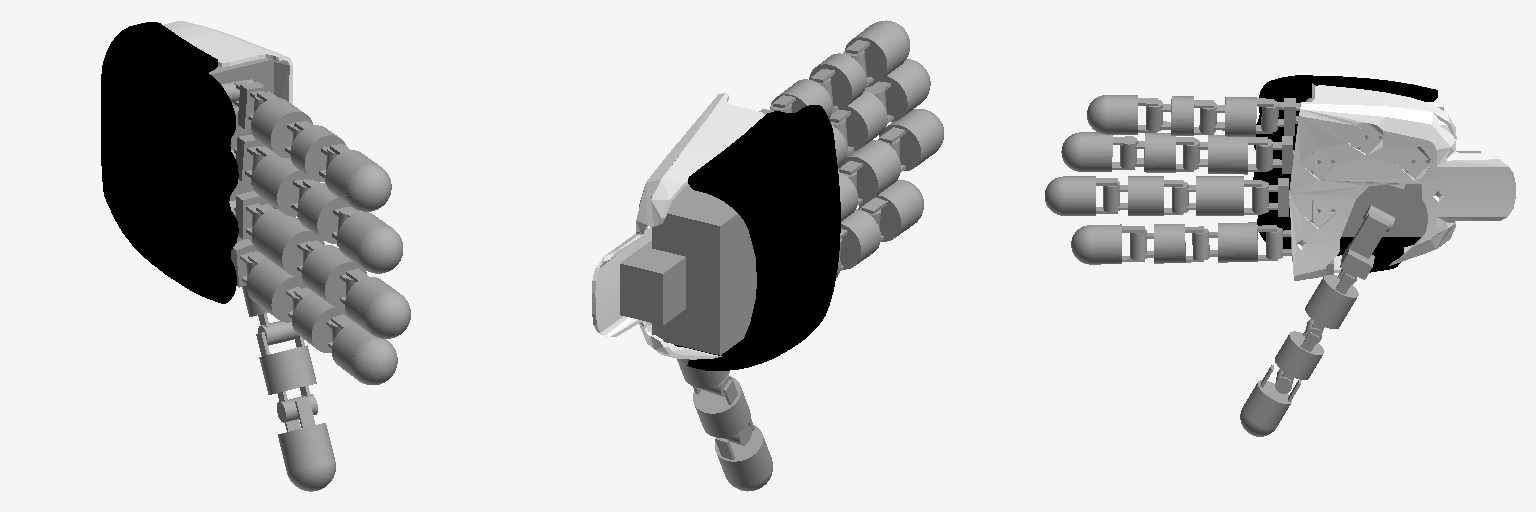
URDF robot description (ICub):
<?xml version="1.0"?>
<robot name="ICub">


   <link name="base_link">
      <origin rpy="0 0 0" xyz="0 0 0"/>
    <inertial>
      <origin xyz="0 0 0" rpy="0 0 0"/>
      <mass value="0.111"/>
      <inertia
        ixx="0.112" ixy="0.0" ixz="0.0"
        iyy="0.112" iyz="0.0"
        izz="0.112"/>
    </inertial>
   </link>

<!-- LEFT HAND -->

   <link name="left_palm">
      <visual>
      <origin rpy="0 0 0" xyz="-0.0625 0 0.016"/>
         <geometry>
	    <mesh filename="package://icub_with_hands/meshes/left_palm.dae"/>
         </geometry>
      </visual>
    <inertial>
      <origin xyz="0 0 0" rpy="0 0 0"/>
      <mass value="0.111"/>
      <inertia
        ixx="0.112" ixy="0.0" ixz="0.0"
        iyy="0.112" iyz="0.0"
        izz="0.112"/>
    </inertial>
   </link>

   <link name="lthumbbase">
    <inertial>
      <origin xyz="0 0 0" rpy="0 0 0"/>
      <mass value="0.111"/>
      <inertia
        ixx="0.112" ixy="0.0" ixz="0.0"
        iyy="0.112" iyz="0.0"
        izz="0.112"/>
    </inertial>
   </link>

   <link name="ltl0">
      <visual>
      <origin rpy="-1.5708 0 0" xyz="0 0 0"/>
         <geometry>
	    <mesh filename="package://icub_with_hands/meshes/ltl0.dae"/>
         </geometry>
      </visual>
    <inertial>
      <origin xyz="0 0 0" rpy="0 0 0"/>
      <mass value="0.111"/>
      <inertia
        ixx="0.112" ixy="0.0" ixz="0.0"
        iyy="0.112" iyz="0.0"
        izz="0.112"/>
    </inertial>
   </link>

   <link name="ltl1">
      <visual>
      <origin rpy="0 0 0" xyz="0.021 0 -0.0056"/>
         <geometry>
	    <mesh filename="package://icub_with_hands/meshes/ltl1.dae"/>
         </geometry>
      </visual>
    <inertial>
      <origin xyz="0 0 0" rpy="0 0 0"/>
      <mass value="0.111"/>
      <inertia
        ixx="0.112" ixy="0.0" ixz="0.0"
        iyy="0.112" iyz="0.0"
        izz="0.112"/>
    </inertial>
   </link>

   <link name="ltl2">
      <visual>
      <origin rpy="0 0 0" xyz="0.026 0 0"/>
         <geometry>
	    <mesh filename="package://icub_with_hands/meshes/ltl2.dae"/>
         </geometry>
      </visual>
    <inertial>
      <origin xyz="0 0 0" rpy="0 0 0"/>
      <mass value="0.111"/>
      <inertia
        ixx="0.112" ixy="0.0" ixz="0.0"
        iyy="0.112" iyz="0.0"
        izz="0.112"/>
    </inertial>
   </link>

   <link name="ltl3">
      <visual>
      <origin rpy="0 0 0" xyz="0.022 0 0"/>
         <geometry>
	    <mesh filename="package://icub_with_hands/meshes/ltl3.dae"/>
         </geometry>
      </visual>
    <inertial>
      <origin xyz="0 0 0" rpy="0 0 0"/>
      <mass value="0.111"/>
      <inertia
        ixx="0.112" ixy="0.0" ixz="0.0"
        iyy="0.112" iyz="0.0"
        izz="0.112"/>
    </inertial>
   </link>

   <link name="ltl4">
      <visual>
      <origin rpy="0 0 0" xyz="0.0168 0 0"/>
         <geometry>
	    <mesh filename="package://icub_with_hands/meshes/ltl4.dae"/>
         </geometry>
      </visual>
    <inertial>
      <origin xyz="0 0 0" rpy="0 0 0"/>
      <mass value="0.111"/>
      <inertia
        ixx="0.112" ixy="0.0" ixz="0.0"
        iyy="0.112" iyz="0.0"
        izz="0.112"/>
    </inertial>
   </link>

   <link name="lindexbase">
      <visual>
      <origin rpy="0.0959 0 -3.2141" xyz="-0.0018 -0.027 -0.00375"/>
         <geometry>
	    <mesh filename="package://icub_with_hands/meshes/lindexbase.dae"/>
         </geometry>
      </visual>
    <inertial>
      <origin xyz="0 0 0" rpy="0 0 0"/>
      <mass value="0.111"/>
      <inertia
        ixx="0.112" ixy="0.0" ixz="0.0"
        iyy="0.112" iyz="0.0"
        izz="0.112"/>
    </inertial>
   </link>

   <link name="lail0">
      <visual>
      <origin rpy="1.5708 0 0" xyz="0.0148 0 0"/>
         <geometry>
	    <mesh filename="package://icub_with_hands/meshes/lail0.dae"/>
         </geometry>
      </visual>
    <inertial>
      <origin xyz="0 0 0" rpy="0 0 0"/>
      <mass value="0.111"/>
      <inertia
        ixx="0.112" ixy="0.0" ixz="0.0"
        iyy="0.112" iyz="0.0"
        izz="0.112"/>
    </inertial>
   </link>

   <link name="lail1">

      <visual>
      <origin rpy="0 0 0" xyz="0.0259 0 0"/>
         <geometry>
	    <mesh filename="package://icub_with_hands/meshes/lail1.dae"/>
         </geometry>
      </visual>
    <inertial>
      <origin xyz="0 0 0" rpy="0 0 0"/>
      <mass value="0.111"/>
      <inertia
        ixx="0.112" ixy="0.0" ixz="0.0"
        iyy="0.112" iyz="0.0"
        izz="0.112"/>
    </inertial>
   </link>

   <link name="lail2">

      <visual>
      <origin rpy="0 0 0" xyz="0.022 0 0"/>
         <geometry>
	    <mesh filename="package://icub_with_hands/meshes/lail2.dae"/>
         </geometry>
      </visual>
    <inertial>
      <origin xyz="0 0 0" rpy="0 0 0"/>
      <mass value="0.111"/>
      <inertia
        ixx="0.112" ixy="0.0" ixz="0.0"
        iyy="0.112" iyz="0.0"
        izz="0.112"/>
    </inertial>
   </link>

   <link name="lail3">

      <visual>
      <origin rpy="-1.5708 0 0" xyz="0.0168 0 0"/>
         <geometry>
	    <mesh filename="package://icub_with_hands/meshes/lail3.dae"/>
         </geometry>
      </visual>
    <inertial>
      <origin xyz="0 0 0" rpy="0 0 0"/>
      <mass value="0.111"/>
      <inertia
        ixx="0.112" ixy="0.0" ixz="0.0"
        iyy="0.112" iyz="0.0"
        izz="0.112"/>
    </inertial>
   </link>

   <link name="lmiddlebase">

      <visual>
      <origin rpy="0 0 3.1416" xyz="-0.0028 -0.01 -0.005"/>
         <geometry>
	    <mesh filename="package://icub_with_hands/meshes/lmiddlebase.dae"/>
         </geometry>
      </visual>
    <inertial>
      <origin xyz="0 0 0" rpy="0 0 0"/>
      <mass value="0.111"/>
      <inertia
        ixx="0.112" ixy="0.0" ixz="0.0"
        iyy="0.112" iyz="0.0"
        izz="0.112"/>
    </inertial>
   </link>

   <link name="lml0">

      <visual>
      <origin rpy="1.5708 0 0" xyz="0.015 0 0"/>
         <geometry>
	    <mesh filename="package://icub_with_hands/meshes/lml0.dae"/>
         </geometry>
      </visual>
    <inertial>
      <origin xyz="0 0 0" rpy="0 0 0"/>
      <mass value="0.111"/>
      <inertia
        ixx="0.112" ixy="0.0" ixz="0.0"
        iyy="0.112" iyz="0.0"
        izz="0.112"/>
    </inertial>
   </link>

   <link name="lml1">

      <visual>
      <origin rpy="0 0 0" xyz="0.0285 0 0"/>
         <geometry>
	    <mesh filename="package://icub_with_hands/meshes/lml1.dae"/>
         </geometry>
      </visual>
    <inertial>
      <origin xyz="0 0 0" rpy="0 0 0"/>
      <mass value="0.111"/>
      <inertia
        ixx="0.112" ixy="0.0" ixz="0.0"
        iyy="0.112" iyz="0.0"
        izz="0.112"/>
    </inertial>
   </link>

   <link name="lml2">

      <visual>
      <origin rpy="0 0 0" xyz="0.0240 0 0"/>
         <geometry>
	    <mesh filename="package://icub_with_hands/meshes/lml2.dae"/>
         </geometry>
      </visual>
    <inertial>
      <origin xyz="0 0 0" rpy="0 0 0"/>
      <mass value="0.111"/>
      <inertia
        ixx="0.112" ixy="0.0" ixz="0.0"
        iyy="0.112" iyz="0.0"
        izz="0.112"/>
    </inertial>
   </link>

   <link name="lml3">

      <visual>
      <origin rpy="-1.5708 0 0" xyz="0.0168 0 0"/>
         <geometry>
	    <mesh filename="package://icub_with_hands/meshes/lml3.dae"/>
         </geometry>
      </visual>
    <inertial>
      <origin xyz="0 0 0" rpy="0 0 0"/>
      <mass value="0.111"/>
      <inertia
        ixx="0.112" ixy="0.0" ixz="0.0"
        iyy="0.112" iyz="0.0"
        izz="0.112"/>
    </inertial>
   </link>

   <link name="lringbase">

      <visual>
      <origin rpy="-0.0873 0 3.1329" xyz="-0.00165 0.0059 -0.00425"/>
         <geometry>
	    <mesh filename="package://icub_with_hands/meshes/lringbase.dae"/>
         </geometry>
      </visual>
    <inertial>
      <origin xyz="0 0 0" rpy="0 0 0"/>
      <mass value="0.111"/>
      <inertia
        ixx="0.112" ixy="0.0" ixz="0.0"
        iyy="0.112" iyz="0.0"
        izz="0.112"/>
    </inertial>
   </link>

   <link name="lril0">

      <visual>
      <origin rpy="1.5708 0 0" xyz="0.0148 0 0"/>
         <geometry>
	    <mesh filename="package://icub_with_hands/meshes/lril0.dae"/>
         </geometry>
      </visual>
    <inertial>
      <origin xyz="0 0 0" rpy="0 0 0"/>
      <mass value="0.111"/>
      <inertia
        ixx="0.112" ixy="0.0" ixz="0.0"
        iyy="0.112" iyz="0.0"
        izz="0.112"/>
    </inertial>
   </link>

   <link name="lril1">

      <visual>
      <origin rpy="0 0 0" xyz="0.0259 0 0"/>
         <geometry>
	    <mesh filename="package://icub_with_hands/meshes/lril1.dae"/>
         </geometry>
      </visual>
    <inertial>
      <origin xyz="0 0 0" rpy="0 0 0"/>
      <mass value="0.111"/>
      <inertia
        ixx="0.112" ixy="0.0" ixz="0.0"
        iyy="0.112" iyz="0.0"
        izz="0.112"/>
    </inertial>
   </link>

   <link name="lril2">

      <visual>
      <origin rpy="0 0 0" xyz="0.022 0 0"/>
         <geometry>
	    <mesh filename="package://icub_with_hands/meshes/lril2.dae"/>
         </geometry>
      </visual>
    <inertial>
      <origin xyz="0 0 0" rpy="0 0 0"/>
      <mass value="0.111"/>
      <inertia
        ixx="0.112" ixy="0.0" ixz="0.0"
        iyy="0.112" iyz="0.0"
        izz="0.112"/>
    </inertial>
   </link>

   <link name="lril3">

      <visual>
      <origin rpy="-1.5708 0 0" xyz="0.0168 0 0"/>
         <geometry>
	    <mesh filename="package://icub_with_hands/meshes/lril3.dae"/>
         </geometry>
      </visual>
    <inertial>
      <origin xyz="0 0 0" rpy="0 0 0"/>
      <mass value="0.111"/>
      <inertia
        ixx="0.112" ixy="0.0" ixz="0.0"
        iyy="0.112" iyz="0.0"
        izz="0.112"/>
    </inertial>
   </link>

   <link name="llittlebase">

      <visual>
      <origin rpy="-0.0873 0 3.1241" xyz="0.00025 0.02475 -0.0025"/>
         <geometry>
	    <mesh filename="package://icub_with_hands/meshes/llittlebase.dae"/>
         </geometry>
      </visual>
    <inertial>
      <origin xyz="0 0 0" rpy="0 0 0"/>
      <mass value="0.111"/>
      <inertia
        ixx="0.112" ixy="0.0" ixz="0.0"
        iyy="0.112" iyz="0.0"
        izz="0.112"/>
    </inertial>
   </link>

   <link name="llil0">

      <visual>
      <origin rpy="1.5708 0 0" xyz="0.0148 0 0"/>
         <geometry>
	    <mesh filename="package://icub_with_hands/meshes/llil0.dae"/>
         </geometry>
      </visual>
    <inertial>
      <origin xyz="0 0 0" rpy="0 0 0"/>
      <mass value="0.111"/>
      <inertia
        ixx="0.112" ixy="0.0" ixz="0.0"
        iyy="0.112" iyz="0.0"
        izz="0.112"/>
    </inertial>
   </link>

   <link name="llil1">

      <visual>
      <origin rpy="0 0 0" xyz="0.0218 0 0"/>
         <geometry>
	    <mesh filename="package://icub_with_hands/meshes/llil1.dae"/>
         </geometry>
      </visual>
    <inertial>
      <origin xyz="0 0 0" rpy="0 0 0"/>
      <mass value="0.111"/>
      <inertia
        ixx="0.112" ixy="0.0" ixz="0.0"
        iyy="0.112" iyz="0.0"
        izz="0.112"/>
    </inertial>
   </link>

   <link name="llil2">

      <visual>
      <origin rpy="0 0 0" xyz="0.019 0 0"/>
         <geometry>
	    <mesh filename="package://icub_with_hands/meshes/llil2.dae"/>
         </geometry>
      </visual>
    <inertial>
      <origin xyz="0 0 0" rpy="0 0 0"/>
      <mass value="0.111"/>
      <inertia
        ixx="0.112" ixy="0.0" ixz="0.0"
        iyy="0.112" iyz="0.0"
        izz="0.112"/>
    </inertial>
   </link>

   <link name="llil3">

      <visual>
      <origin rpy="-1.5708 0 0" xyz="0.0168 0 0"/>
         <geometry>
	    <mesh filename="package://icub_with_hands/meshes/llil3.dae"/>
         </geometry>
      </visual>
    <inertial>
      <origin xyz="0 0 0" rpy="0 0 0"/>
      <mass value="0.111"/>
      <inertia
        ixx="0.112" ixy="0.0" ixz="0.0"
        iyy="0.112" iyz="0.0"
        izz="0.112"/>
    </inertial>
   </link>



	
<!-- ########################################################## JOINTS #########################################################
##################################################################################################################
##################################################################################################################
##################################################################################################################
##################################################################################################################
##################################################################################################################
################################################################################################################## -->



<!-- LEFT HAND -->

   <joint name="left_wrist_yaw" type="fixed">
      <axis xyz="0 0 1"/>
      <limit effort="1000.0" lower="-0.3491" upper="0.6981" velocity="0.5"/>
      <parent link="base_link"/>
      <child link="left_palm"/>
      <origin rpy="1.5708 0 1.5708" xyz="0 0 0"/>
   </joint>

   <joint name="ltj1" type="fixed">
      <parent link="left_palm"/>
      <child link="lthumbbase"/>
      <origin rpy="0 0 0" xyz="-0.0625 0 0.016"/>
   </joint>

   <joint name="ltj2" type="revolute">
      <axis xyz="0 0 -1"/>
      <limit effort="1000.0" lower="0" upper="1.5708" velocity="0.5"/>
      <parent link="lthumbbase"/>
      <child link="ltl0"/>
      <origin rpy="-1.4922 0 -2.0683" xyz="0.0239 -0.01235 0.005"/>
   </joint>

   <joint name="ltj3" type="fixed">
      <parent link="ltl0"/>
      <child link="ltl1"/>
      <origin rpy="-1.5708 0 0" xyz="0 0 0"/>
   </joint>

   <joint name="ltj4" type="revolute">
      <axis xyz="0 0 1"/>
      <limit effort="1000.0" lower="0" upper="1.5708" velocity="0.5"/>
      <parent link="ltl1"/>
      <child link="ltl2"/>
      <origin rpy="0 0 0" xyz="0.021 0 -0.0056"/>
   </joint>

   <joint name="ltj5" type="revolute">
      <axis xyz="0 0 1"/>
      <limit effort="1000.0" lower="0" upper="1.5708" velocity="0.5"/>
      <parent link="ltl2"/>
      <child link="ltl3"/>
      <origin rpy="0 0 0" xyz="0.026 0 0"/>
   </joint>

   <joint name="ltj6" type="revolute">
      <axis xyz="0 0 1"/>
      <limit effort="1000.0" lower="0" upper="1.5708" velocity="0.5"/>
      <parent link="ltl3"/>
      <child link="ltl4"/>
      <origin rpy="0 0 0" xyz="0.022 0 0"/>
   </joint>

   <joint name="laij1" type="fixed">
      <parent link="left_palm"/>
      <child link="lindexbase"/>
      <origin rpy="0 0 0" xyz="-0.0625 0 0.016"/>
   </joint>

   <joint name="laij2" type="fixed">
      <parent link="lindexbase"/>
      <child link="lail0"/>
      <origin rpy="0.0959 0 -3.1241" xyz="0.0018 -0.027 -0.00375"/>
   </joint>

   <joint name="laij3" type="revolute">
      <axis xyz="0 0 1"/>
      <limit effort="1000.0" lower="0" upper="1.5708" velocity="0.5"/>
      <parent link="lail0"/>
      <child link="lail1"/>
      <origin rpy="1.5708 0 0" xyz="0.0148 0 0"/>
   </joint>

   <joint name="laij4" type="revolute">
      <axis xyz="0 0 1"/>
      <limit effort="1000.0" lower="0" upper="1.5708" velocity="0.5"/>
      <parent link="lail1"/>
      <child link="lail2"/>
      <origin rpy="0 0 0" xyz="0.0259 0 0"/>
   </joint>

   <joint name="laij5" type="revolute">
      <axis xyz="0 0 1"/>
      <limit effort="1000.0" lower="0" upper="1.5708" velocity="0.5"/>
      <parent link="lail2"/>
      <child link="lail3"/>
      <origin rpy="0 0 0" xyz="0.022 0 0"/>
   </joint>

   <joint name="lmj1" type="fixed">
      <parent link="left_palm"/>
      <child link="lmiddlebase"/>
      <origin rpy="0 0 0" xyz="-0.0625 0 0.016"/>
   </joint>

   <joint name="lmj2" type="fixed">
      <parent link="lmiddlebase"/>
      <child link="lml0"/>
      <origin rpy="0 0 3.1416" xyz="-0.0028 -0.01 -0.005"/>
   </joint>

   <joint name="lmj3" type="revolute">
      <axis xyz="0 0 1"/>
      <limit effort="1000.0" lower="0" upper="1.5708" velocity="0.5"/>
      <parent link="lml0"/>
      <child link="lml1"/>
      <origin rpy="1.5708 0 0" xyz="0.015 0 0"/>
   </joint>

   <joint name="lmj4" type="revolute">
      <axis xyz="0 0 1"/>
      <limit effort="1000.0" lower="0" upper="1.5708" velocity="0.5"/>
      <parent link="lml1"/>
      <child link="lml2"/>
      <origin rpy="0 0 0" xyz="0.0285 0 0"/>
   </joint>

   <joint name="lmj5" type="revolute">
      <axis xyz="0 0 1"/>
      <limit effort="1000.0" lower="0" upper="1.5708" velocity="0.5"/>
      <parent link="lml2"/>
      <child link="lml3"/>
      <origin rpy="0 0 0" xyz="0.0240 0 0"/>
   </joint>

   <joint name="lrij1" type="fixed">
      <parent link="left_palm"/>
      <child link="lringbase"/>
      <origin rpy="0 0 0" xyz="-0.0625 0 0.016"/>
   </joint>

   <joint name="lrij2" type="fixed">
      <parent link="lringbase"/>
      <child link="lril0"/>
      <origin rpy="-0.0873 0 3.1329" xyz="-0.00165 0.0059 -0.00425"/>
   </joint>

   <joint name="lrij3" type="revolute">
      <axis xyz="0 0 1"/>
      <limit effort="1000.0" lower="0" upper="1.5708" velocity="0.5"/>
      <parent link="lril0"/>
      <child link="lril1"/>
      <origin rpy="1.5708 0 0" xyz="0.0148 0 0"/>
   </joint>

   <joint name="lrij4" type="revolute">
      <axis xyz="0 0 1"/>
      <limit effort="1000.0" lower="0" upper="1.5708" velocity="0.5"/>
      <parent link="lril1"/>
      <child link="lril2"/>
      <origin rpy="0 0 0" xyz="0.0259 0 0"/>
   </joint>

   <joint name="lrij5" type="revolute">
      <axis xyz="0 0 1"/>
      <limit effort="1000.0" lower="0" upper="1.5708" velocity="0.5"/>
      <parent link="lril2"/>
      <child link="lril3"/>
      <origin rpy="0 0 0" xyz="0.022 0 0"/>
   </joint>

   <joint name="llij1" type="fixed">
      <parent link="left_palm"/>
      <child link="llittlebase"/>
      <origin rpy="0 0 0" xyz="-0.0625 0 0.016"/>
   </joint>

   <joint name="llij2" type="fixed">
      <parent link="llittlebase"/>
      <child link="llil0"/>
      <origin rpy="-0.0873 0 3.1241" xyz="0.00025 0.02475 -0.0025"/>
   </joint>

   <joint name="llij3" type="revolute">
      <axis xyz="0 0 1"/>
      <limit effort="1000.0" lower="0" upper="1.5708" velocity="0.5"/>
      <parent link="llil0"/>
      <child link="llil1"/>
      <origin rpy="1.5708 0 0" xyz="0.0148 0 0"/>
   </joint>

   <joint name="llij4" type="revolute">
      <axis xyz="0 0 1"/>
      <limit effort="1000.0" lower="0" upper="1.5708" velocity="0.5"/>
      <parent link="llil1"/>
      <child link="llil2"/>
      <origin rpy="0 0 0" xyz="0.0218 0 0"/>
   </joint>

   <joint name="llij5" type="revolute">
      <axis xyz="0 0 1"/>
      <limit effort="1000.0" lower="0" upper="1.5708" velocity="0.5"/>
      <parent link="llil2"/>
      <child link="llil3"/>
      <origin rpy="0 0 0" xyz="0.019 0 0"/>
   </joint>


</robot>

--- Facts derived from the render (not from the file) ---
Views: 3 orthographic renders of the robot side by side, from view 1: azimuth 30°, elevation 25°; view 2: azimuth 150°, elevation 25°; view 3: azimuth 270°, elevation 25°.
Model ICub with 28 links and 27 joints (16 revolute, 11 fixed), rooted at base_link, posed every joint at zero.
Links seen in each view (by area): view 1: left_palm, ltl4, lml3, llil3, lail3, lril3, ltl3, lml1, lml2, lril1, lail1, llil1 (+8 smaller); view 2: left_palm, ltl3, ltl4, lml2, llil3, lml3, lail3, lril2, lril3, llil2, lail2, llil1 (+3 smaller); view 3: left_palm, lml1, lail1, lril1, ltl2, lml2, lml3, llil3, lril2, ltl4, lail3, llil1 (+9 smaller).
Link boxes in pixels (box(x1,y1,x2,y2)): left_palm: box(101, 21, 292, 303); ltl4: box(278, 398, 335, 491); lml3: box(345, 269, 410, 338); llil3: box(326, 144, 391, 211); lail3: box(331, 314, 397, 384); lril3: box(337, 208, 402, 273); ltl3: box(256, 332, 317, 422); lml1: box(252, 204, 324, 276); lml2: box(302, 240, 366, 307); lril1: box(252, 146, 311, 218); lail1: box(246, 252, 312, 322); llil1: box(251, 91, 312, 157); left_palm: box(592, 93, 840, 370); ltl3: box(693, 375, 751, 445); ltl4: box(715, 417, 772, 491); lml2: box(838, 138, 900, 205); llil3: box(845, 20, 909, 85); lml3: box(878, 109, 943, 171); lail3: box(858, 180, 923, 241); lril2: box(829, 86, 887, 155); lril3: box(866, 59, 930, 123); llil2: box(809, 50, 867, 114); lail2: box(840, 208, 880, 270); llil1: box(770, 78, 833, 117); left_palm: box(1253, 75, 1515, 280); lml1: box(1172, 176, 1261, 215); lail1: box(1192, 222, 1277, 262); lril1: box(1183, 135, 1267, 174); ltl2: box(1305, 272, 1358, 343); lml2: box(1103, 176, 1182, 215); lml3: box(1045, 176, 1117, 215); llil3: box(1087, 95, 1157, 134); lril2: box(1120, 133, 1193, 172); ltl4: box(1240, 365, 1301, 436); lail3: box(1071, 224, 1144, 264); llil1: box(1199, 97, 1273, 136).
Size in the robot's own frame: 0.0482 by 0.1661 by 0.1291 metres.
26 mesh visuals loaded from 26 distinct referenced files (26 Collada DAE).
